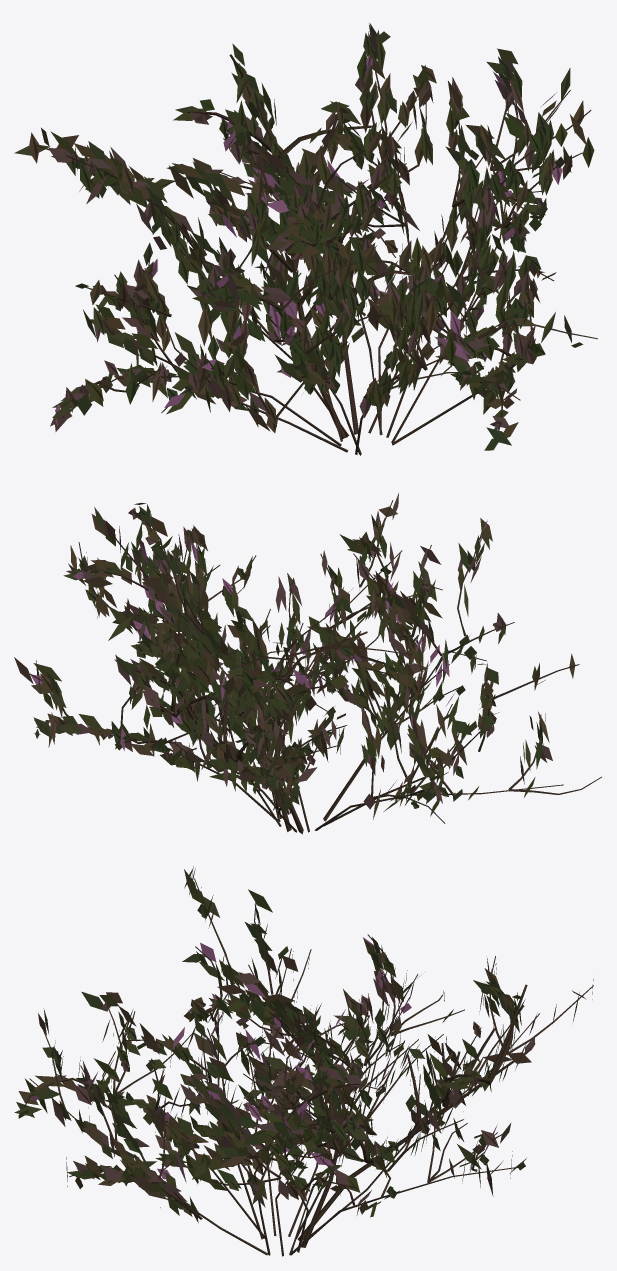
File: heather_twig_b.glb
3 views of the same model, one above another, from view 1: azimuth 30°, elevation 25°; view 2: azimuth 150°, elevation 25°; view 3: azimuth 270°, elevation 25° (orthographic). The views are drawn at different scales.
Visible parts, largest first — view 1: heather_twig_b; view 2: heather_twig_b; view 3: heather_twig_b.
Boxes of the visible parts, bbox=[...] form: heather_twig_b: bbox=[14, 23, 597, 455]; heather_twig_b: bbox=[14, 493, 601, 834]; heather_twig_b: bbox=[14, 866, 593, 1256].
Bounding box in the file's own units: 0.7603 × 0.4668 × 0.759.
